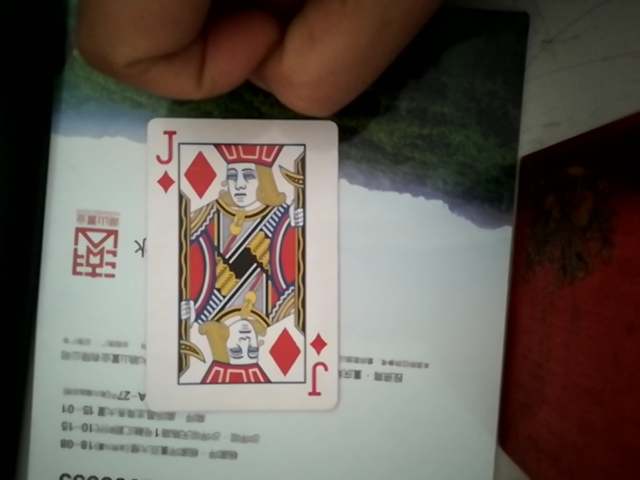fk j: (148, 121, 342, 408)
